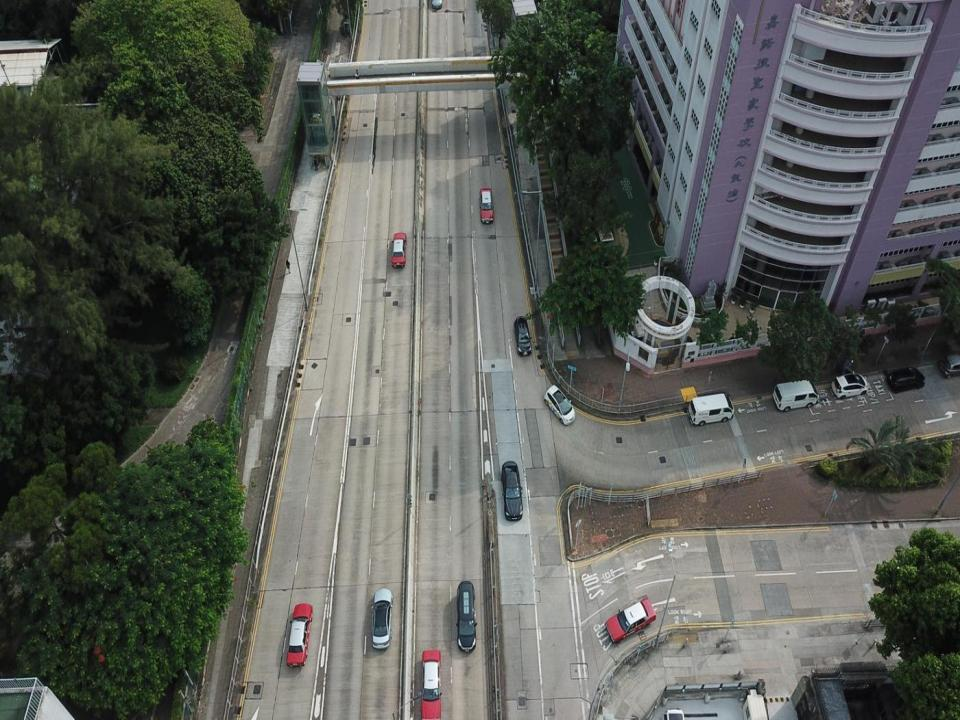car: (606, 598, 656, 643), (286, 605, 314, 668), (420, 649, 442, 719), (371, 588, 394, 649), (501, 461, 524, 521), (543, 385, 576, 425), (830, 370, 870, 398), (885, 366, 925, 393), (514, 314, 534, 356), (479, 185, 495, 226), (391, 232, 408, 267), (939, 352, 960, 378), (429, 1, 442, 14)
van: (686, 391, 734, 427), (772, 379, 820, 412), (456, 580, 477, 652)
